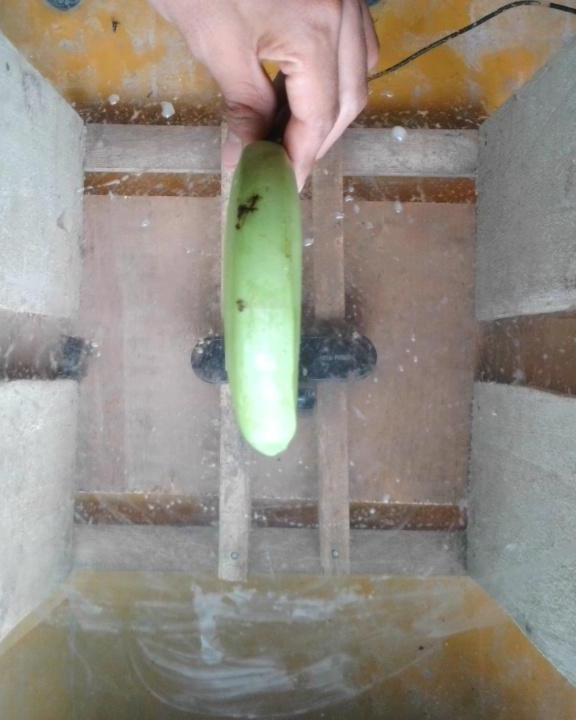CLASS B: (224, 132, 302, 453)
Class A: (228, 176, 270, 239), (220, 292, 256, 324)
